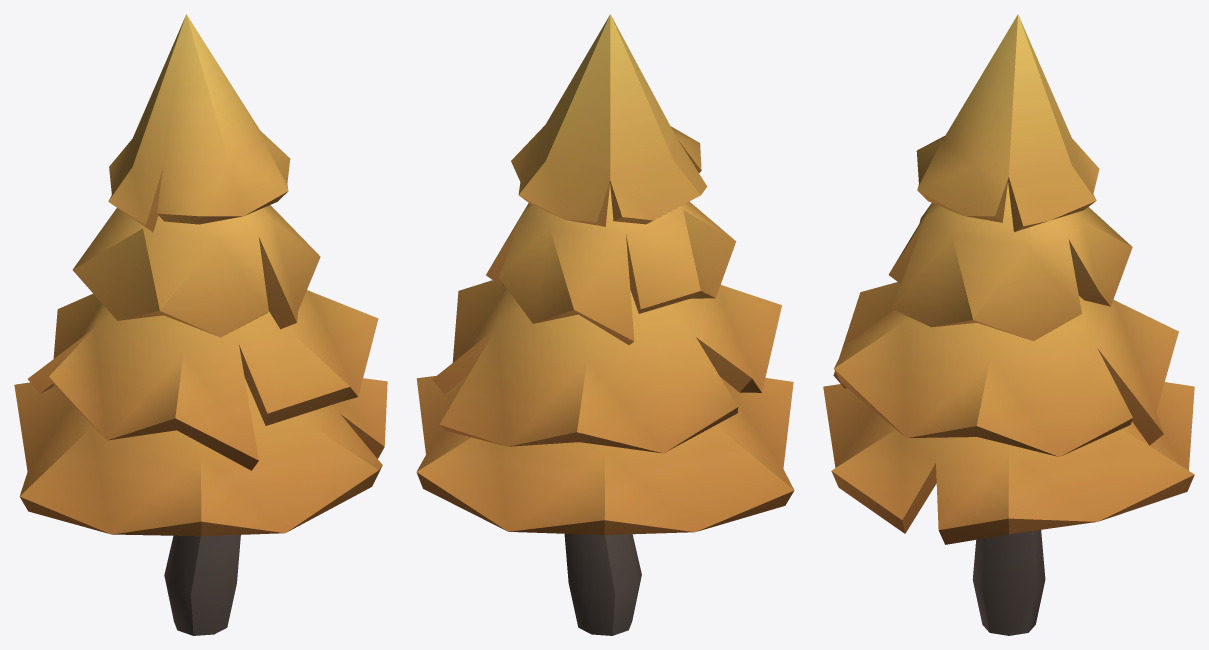
Rendered from tree_pine_yellow_large.glb.
3 renders of one model, left to right at view 1: azimuth 30°, elevation 25°; view 2: azimuth 150°, elevation 25°; view 3: azimuth 270°, elevation 25°, orthographic.
Parts seen in each view (by area): view 1: tree_pine_yellow_large; view 2: tree_pine_yellow_large; view 3: tree_pine_yellow_large.
Part boxes in pixels (bbox=[...]): tree_pine_yellow_large: bbox=[14, 14, 387, 635]; tree_pine_yellow_large: bbox=[416, 14, 794, 635]; tree_pine_yellow_large: bbox=[823, 14, 1194, 635].
Bounding box in the file's own units: 4.76 × 7.48 × 4.16.
Materials: 1 (1 with a texture image).
